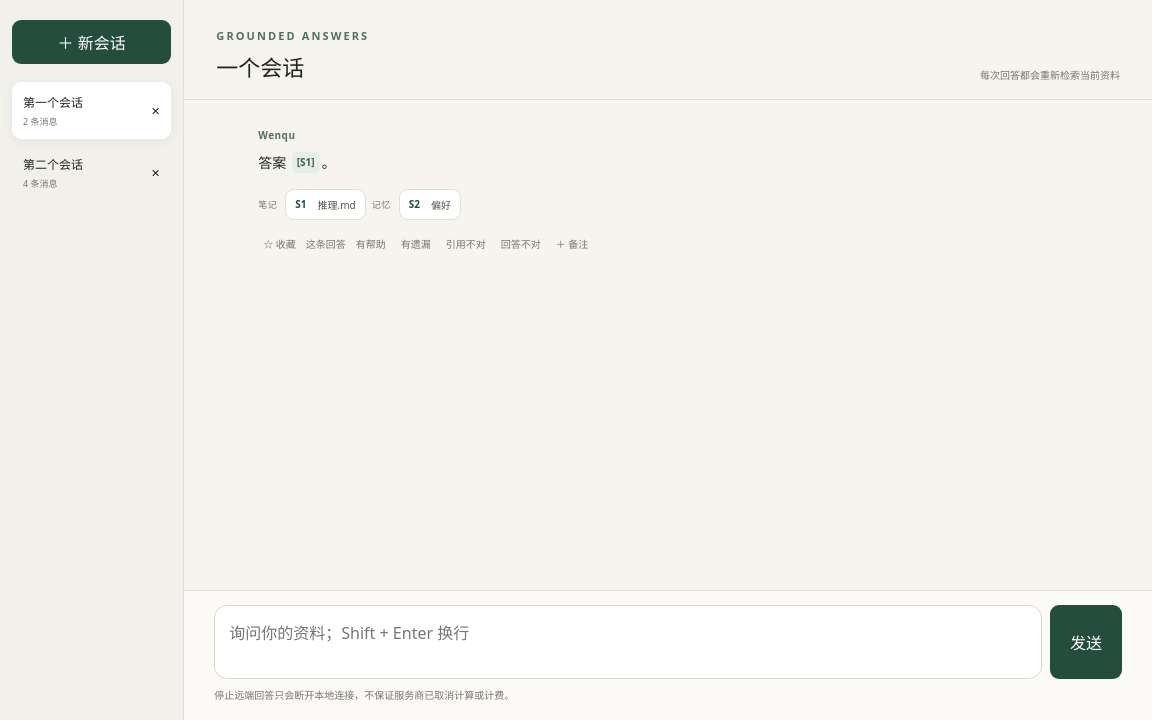
Test: ChatPage source layering › opens a memory source from its own text, without fetching a document snapshot
Expected: the button "S1 推理.md" is shown, [285,189,366,220]
Click the button "S2 偏好" at [430, 204], box [399,189,461,220]
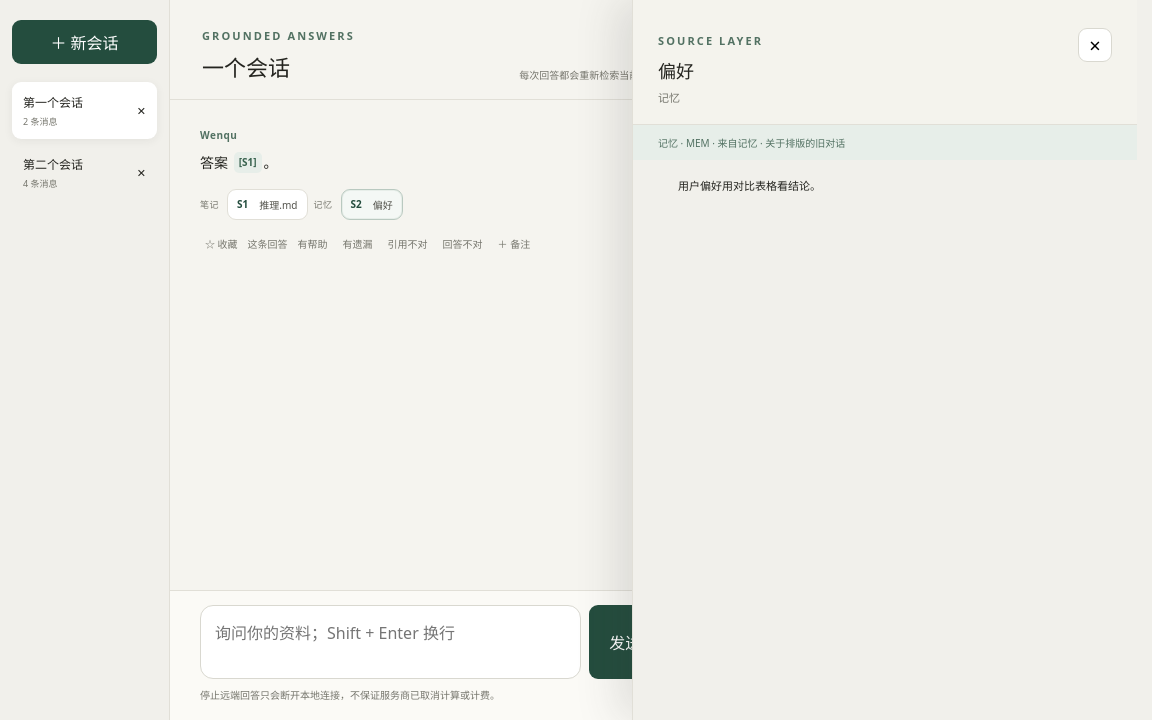
Expected: the text "用户偏好用对比表格看结论。" is shown, [678,180,821,192]
